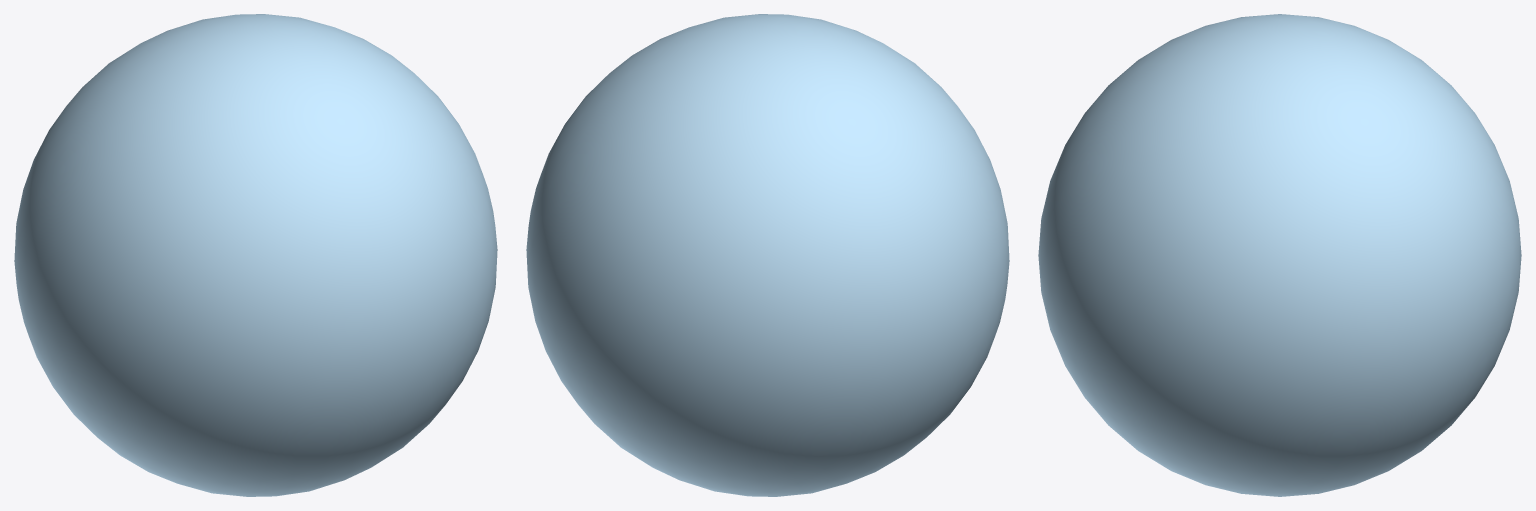
The model's file is cell.vacuole.glb.
3 renders of one model, left to right at view 1: azimuth 30°, elevation 25°; view 2: azimuth 150°, elevation 25°; view 3: azimuth 270°, elevation 25°, orthographic.
Visible parts, largest first — view 1: Vacuole; view 2: Vacuole; view 3: Vacuole.
Part boxes in pixels (box(x1,y1,x2,y2)): Vacuole: box(14, 14, 497, 496); Vacuole: box(526, 14, 1009, 496); Vacuole: box(1038, 14, 1521, 496).
Size of the model in its own units: 0.4 by 0.4 by 0.4.
